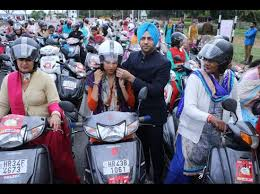helmet: (188, 35, 237, 79), (11, 34, 38, 76), (99, 43, 124, 78)
